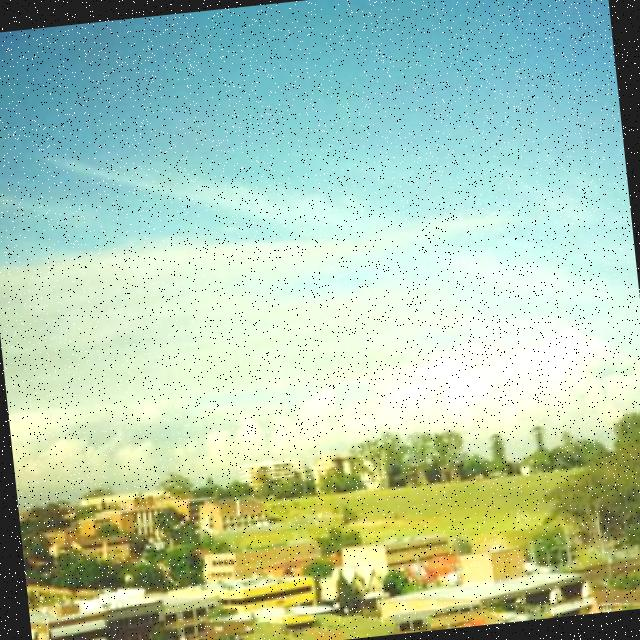Sc: (1, 26, 640, 471)
